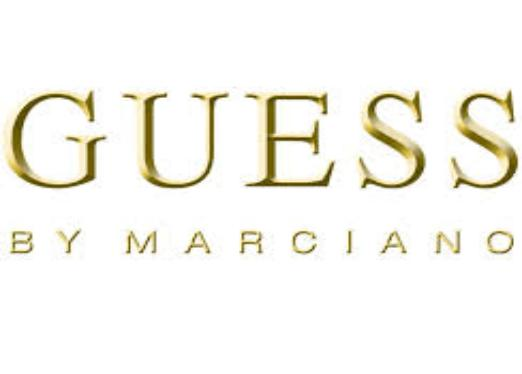GUESS: (4, 83, 522, 195)
